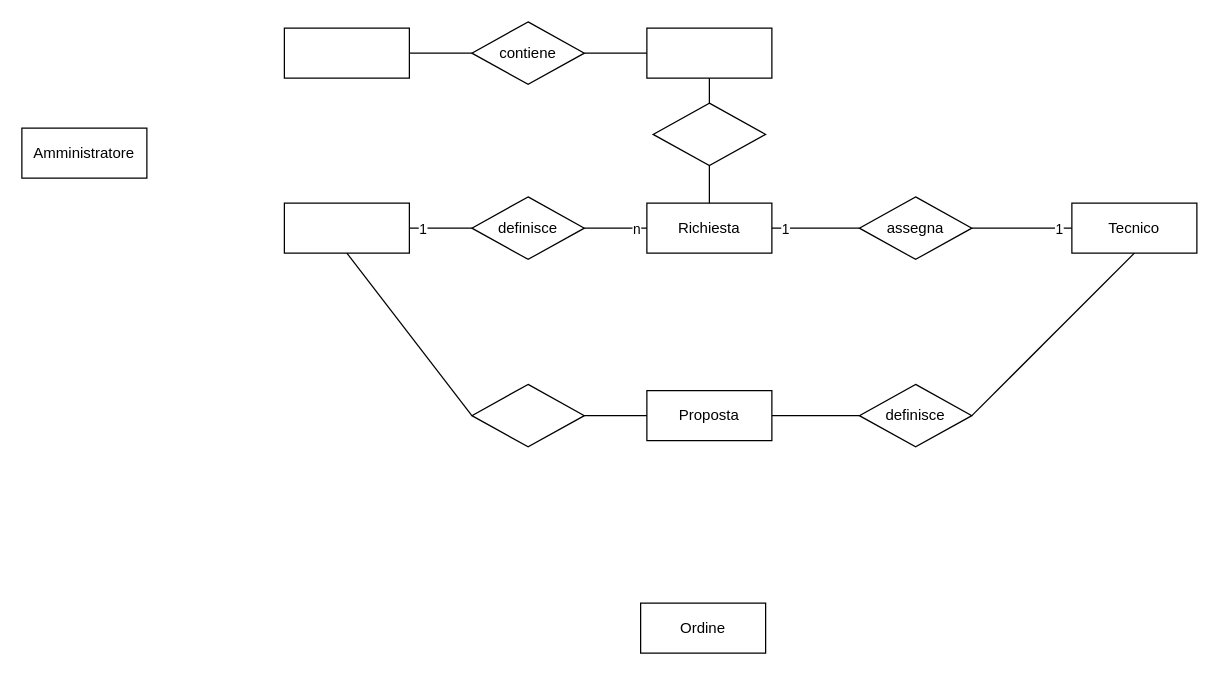
This 1219x675 diagram has some shape labels left out. Here are the shapes that lost their labels. From the top down, the centre of each, then its label:
At (346,52): "Caratteristica".
At (709,52): "Categoria".
At (709,134): "associa".
At (346,227): "Ordinante".
At (527,415): "(sottopone)".
